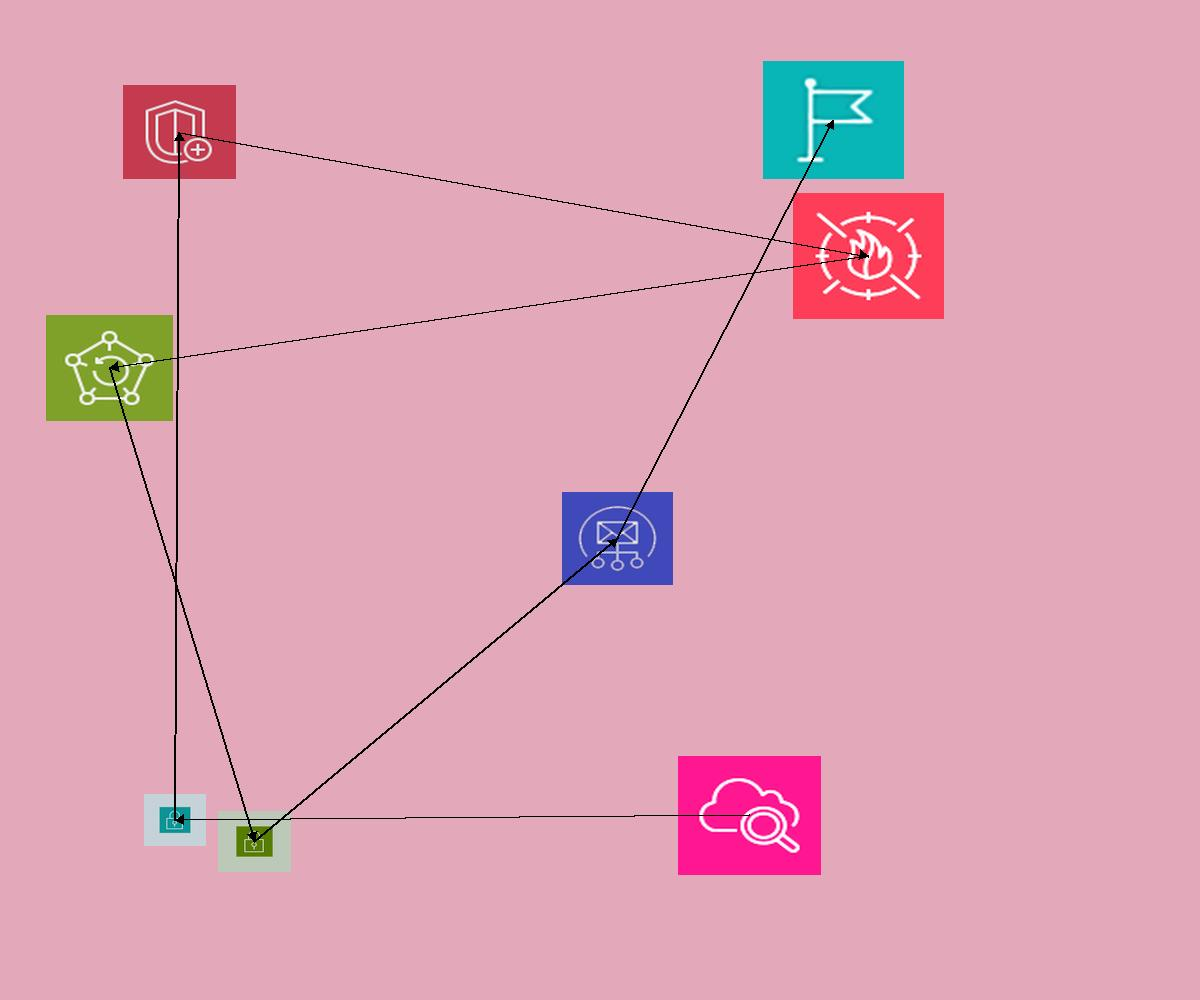AWS-Backup: (46, 315, 173, 421)
AWS-CloudWatch: (678, 756, 821, 875)
AWS-Private-subnet: (144, 794, 206, 846)
AWS-Public-subnet: (218, 811, 291, 872)
AWS-Region: (763, 61, 904, 179)
AWS-Shield: (123, 85, 236, 179)
AWS-Simple-Email-Service: (562, 492, 673, 585)
AWS-WAF: (793, 193, 944, 319)
